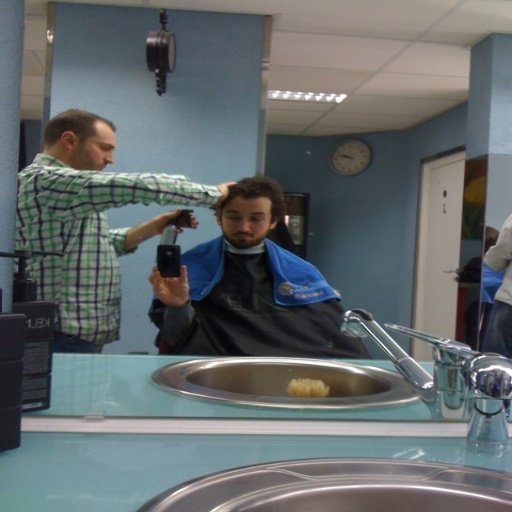hand: (139, 251, 188, 311)
